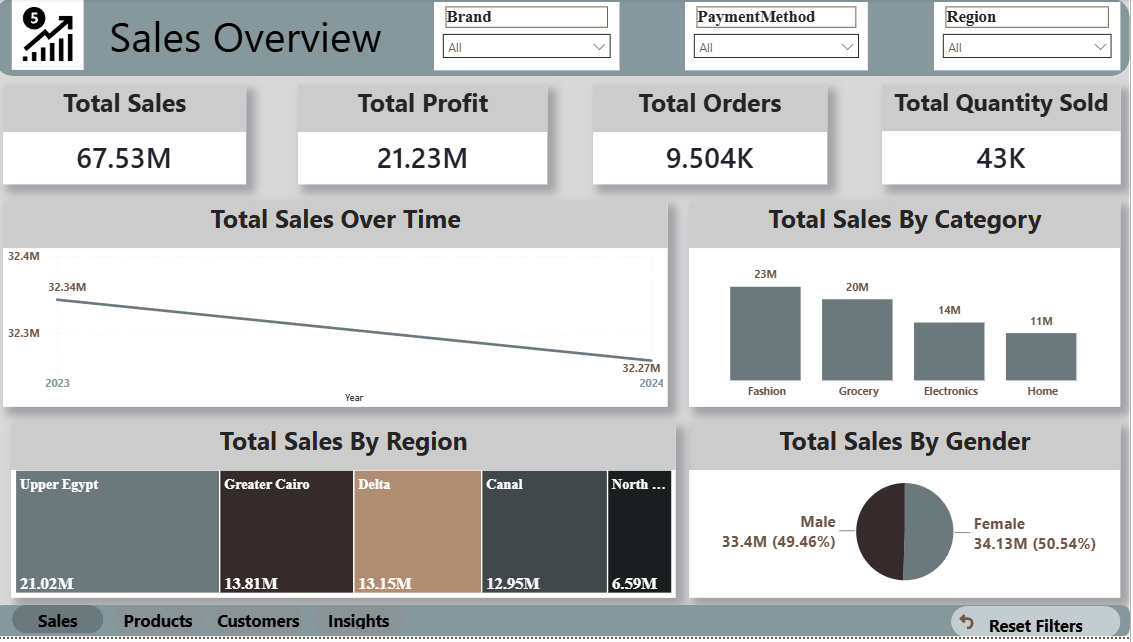

Layout of this report page (visuals, bound fields, positions):
{"tool":"powerbi","page":{"name":"Sales","canvas":[1280,720],"ordinal":0},"visuals":[{"type":"shape","box":[0,0,1279.8,88.2],"z":0},{"type":"cardVisual","title":"Total Sales","fields":{"Data":["Sum(Sales.SalesAmount)"]},"box":[10.1,98.6,273.9,111.6],"z":1000},{"type":"cardVisual","title":"Total Profit","fields":{"Data":["Sales.Total Profit"]},"box":[342,98.6,281.2,111.6],"z":2000},{"type":"cardVisual","title":"Total Orders","fields":{"Data":["CountNonNull(Sales.OrderID)"]},"box":[675.4,98.6,263.8,111.6],"z":3000},{"type":"cardVisual","title":"Total Quantity Sold","fields":{"Data":["Sum(Sales.Quantity)"]},"box":[1000.7,98.4,268.9,111.7],"z":4000},{"type":"lineChart","title":"Total Sales Over Time","fields":{"Category":["Sales.Year","Sales.Quarter","Sales.Month"],"Y":["Sum(Sales.SalesAmount)"]},"box":[10.3,229.2,749.4,232.2],"z":5000},{"type":"columnChart","title":"Total Sales By Category","fields":{"Y":["Sum(Sales.SalesAmount)"],"Category":["Products.Category"]},"box":[783.2,229.2,486.4,232.2],"z":6000},{"type":"pieChart","title":"Total Sales By Gender","fields":{"Category":["Customers.Gender","Sales.Quarter"],"Y":["Sum(Sales.SalesAmount)"]},"box":[783.2,479,486.4,196.9],"z":7000},{"type":"slicer","fields":{"Values":["Products.Brand"]},"box":[495.7,4.3,208.7,76.8],"z":8000},{"type":"slicer","fields":{"Values":["Sales.PaymentMethod"]},"box":[779,4.3,205.8,76.8],"z":9000},{"type":"slicer","fields":{"Values":["Sales.Region"]},"box":[1059.4,4.3,210.1,76.8],"z":10000},{"type":"treemap","title":"Total Sales By Region","fields":{"Group":["Sales.Region"],"Values":["Sum(Sales.SalesAmount)"]},"box":[19.1,479,749.4,196.9],"z":11000},{"type":"shape","box":[108.6,1.3,350.4,81.5],"z":13000},{"type":"image","box":[0,0,121.7,81.2],"z":14000},{"type":"shape","box":[0,684.4,1280,35.6],"z":15000},{"type":"pageNavigator","box":[20,684.4,445.6,32.2],"z":16000},{"type":"actionButton","box":[1078.5,684.7,191.1,35.6],"z":16500}]}

Visuals, with their boxes in screenshot pixels (x1, y1, x2, y2), scaled from the page's 1280x720 canvas onto the 1133x642 screenshot:
shape: [left=0, top=0, right=1132, bottom=79]
"Total Sales" cardVisual: [left=9, top=88, right=251, bottom=187]
"Total Profit" cardVisual: [left=303, top=88, right=552, bottom=187]
"Total Orders" cardVisual: [left=598, top=88, right=831, bottom=187]
"Total Quantity Sold" cardVisual: [left=886, top=88, right=1124, bottom=187]
"Total Sales Over Time" lineChart: [left=9, top=204, right=672, bottom=411]
"Total Sales By Category" columnChart: [left=693, top=204, right=1124, bottom=411]
"Total Sales By Gender" pieChart: [left=693, top=427, right=1124, bottom=603]
slicer - Products.Brand: [left=439, top=4, right=624, bottom=72]
slicer - Sales.PaymentMethod: [left=690, top=4, right=872, bottom=72]
slicer - Sales.Region: [left=938, top=4, right=1124, bottom=72]
"Total Sales By Region" treemap: [left=17, top=427, right=680, bottom=603]
shape: [left=96, top=1, right=406, bottom=74]
image: [left=0, top=0, right=108, bottom=72]
shape: [left=0, top=610, right=1132, bottom=641]
pageNavigator: [left=18, top=610, right=412, bottom=639]
actionButton: [left=955, top=611, right=1124, bottom=641]
